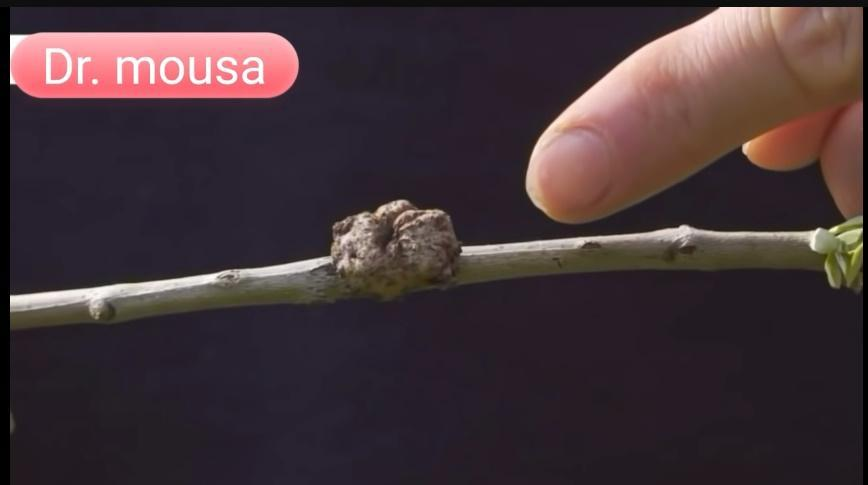Tuberculosis: (327, 194, 467, 296)
